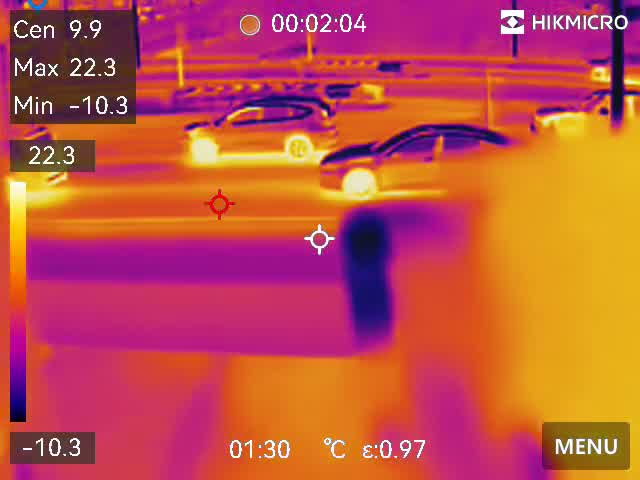largeCar: (171, 92, 337, 157)
smallCar: (316, 122, 519, 192)
